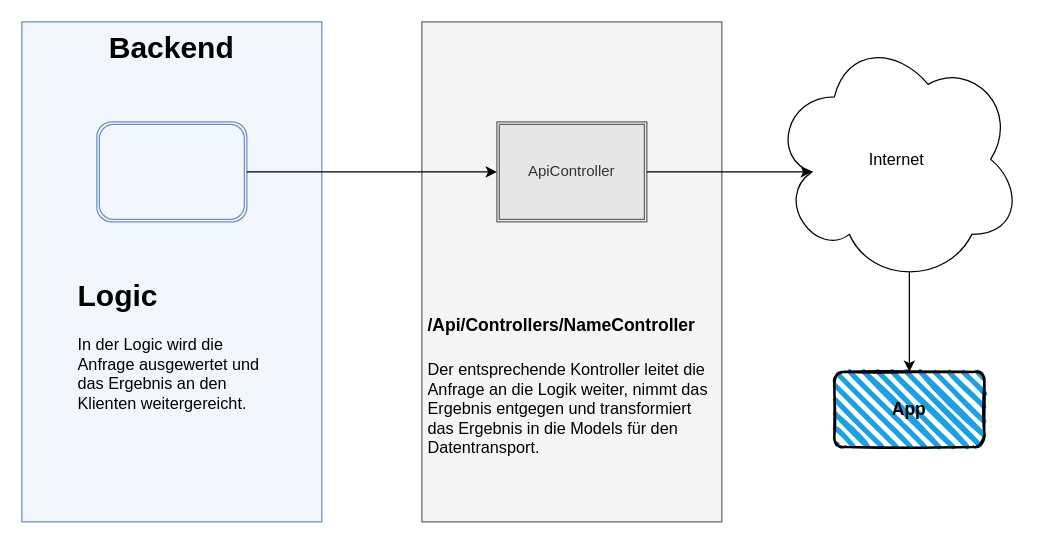
Image size: 1044x544. Some labels were removed from this diagram. The shapes that lost their labels are listed below. From the top down, each one's box as (x1, y1, x2, y2) in pixels, then its label:
(96, 121, 247, 222): Logic
(421, 21, 722, 522): WebApi
